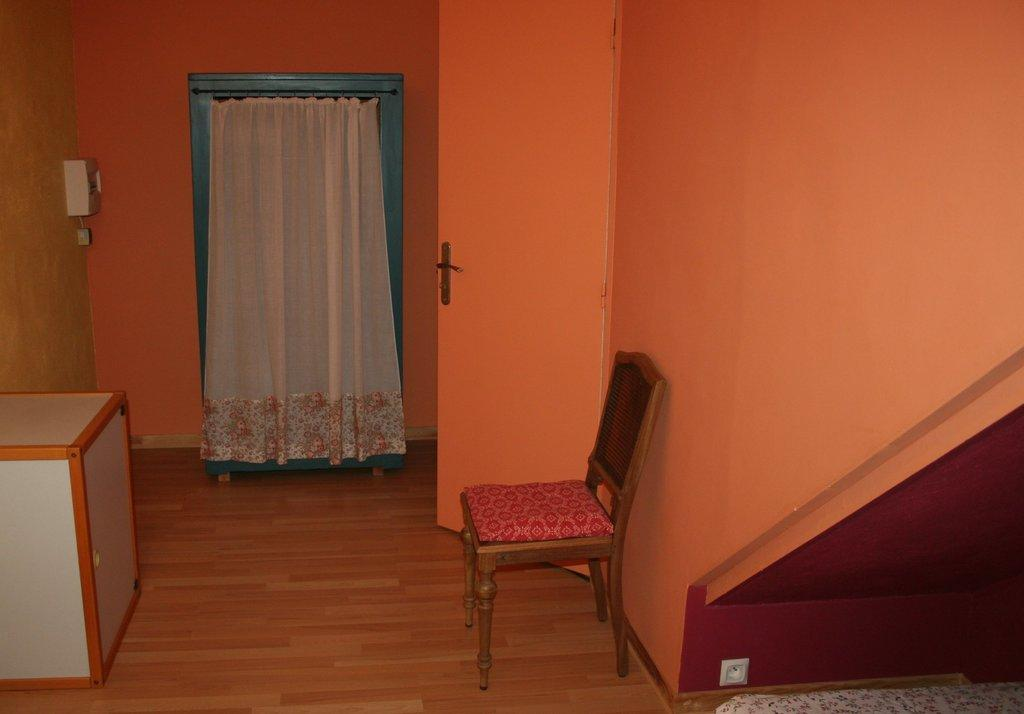Chair: (448, 355, 680, 697)
